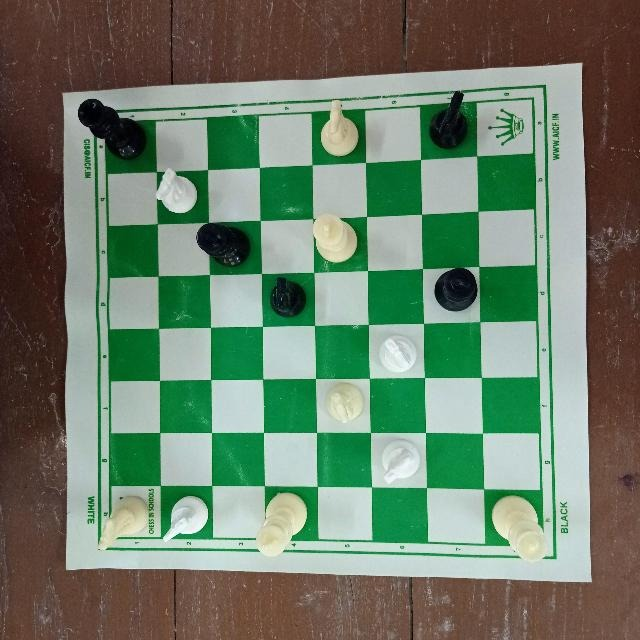black-king: (73, 98, 149, 161), (192, 218, 251, 267), (432, 264, 480, 315)
black-knight: (423, 88, 473, 152), (265, 273, 311, 322)
white-king: (253, 489, 314, 558), (309, 209, 363, 264)
white-knight: (89, 493, 151, 553), (315, 98, 363, 158), (153, 164, 201, 220), (160, 496, 209, 542), (323, 377, 367, 428), (375, 439, 420, 483), (376, 331, 420, 373)
white-queen: (490, 492, 550, 564)
